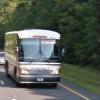Bus: (4, 27, 72, 87)
